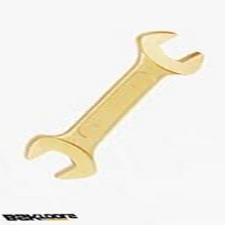Wrench: (7, 21, 225, 191)
